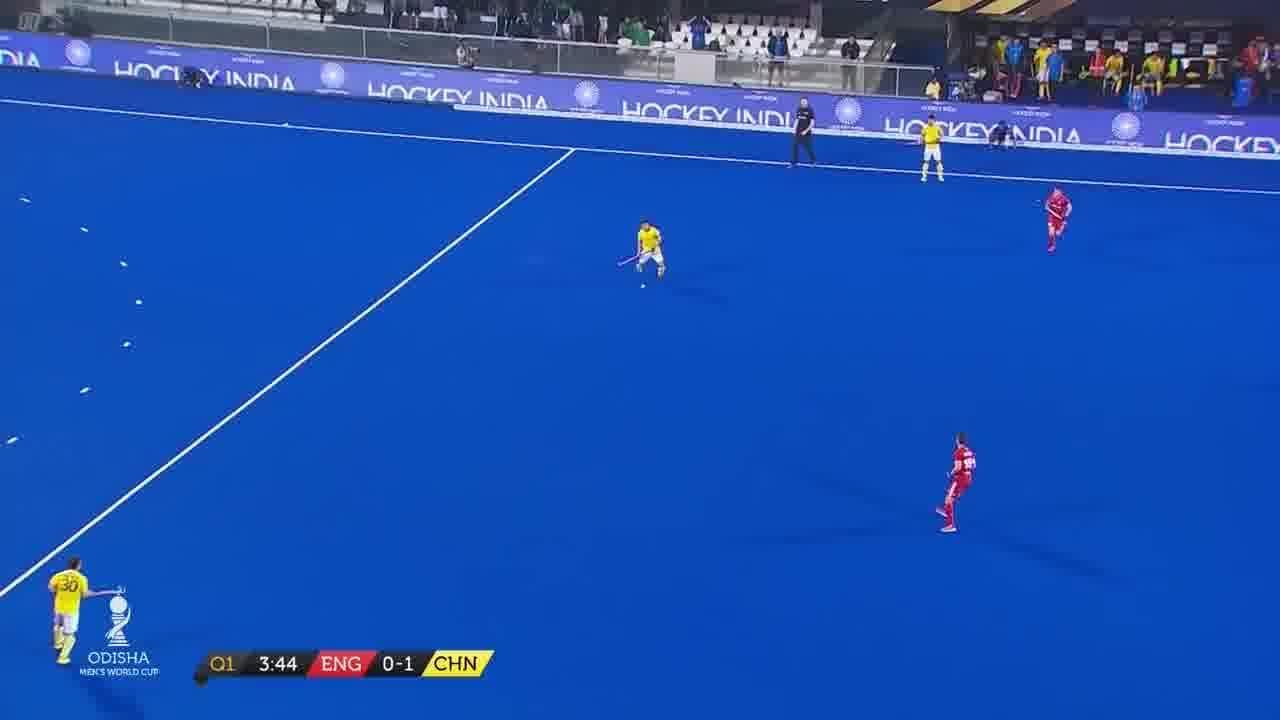ball: (640, 282, 648, 290)
